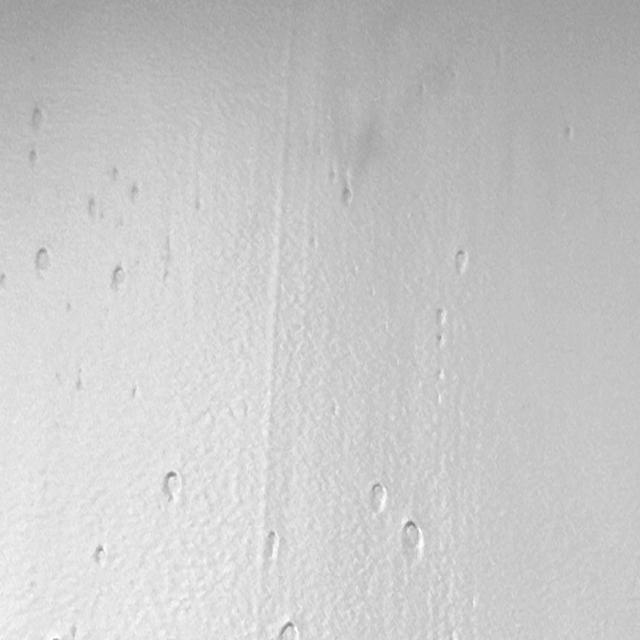pin holes: (396, 521, 428, 567), (161, 468, 186, 505), (31, 244, 55, 278), (367, 482, 389, 514), (108, 262, 131, 292), (450, 246, 470, 276), (91, 542, 112, 570), (263, 529, 281, 560), (277, 619, 302, 640), (28, 108, 48, 134), (26, 150, 43, 175), (72, 366, 88, 392), (128, 184, 146, 207), (84, 197, 101, 221), (339, 186, 356, 210), (327, 399, 343, 421), (434, 306, 449, 326), (110, 164, 125, 183), (564, 124, 576, 145), (128, 385, 141, 404), (435, 333, 449, 350), (66, 624, 80, 640), (436, 366, 448, 384), (194, 198, 206, 215), (64, 299, 76, 316), (0, 271, 9, 290)
